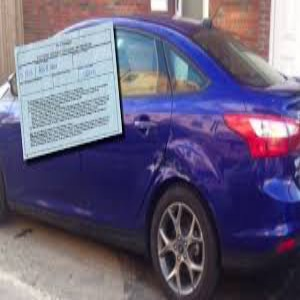door_scratch: (138, 134, 226, 184)
